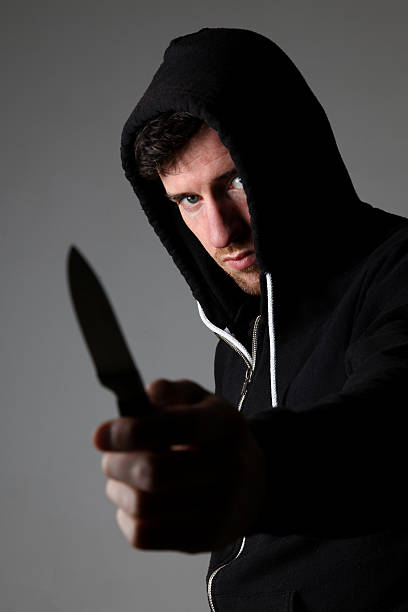knife: (66, 243, 172, 470)
